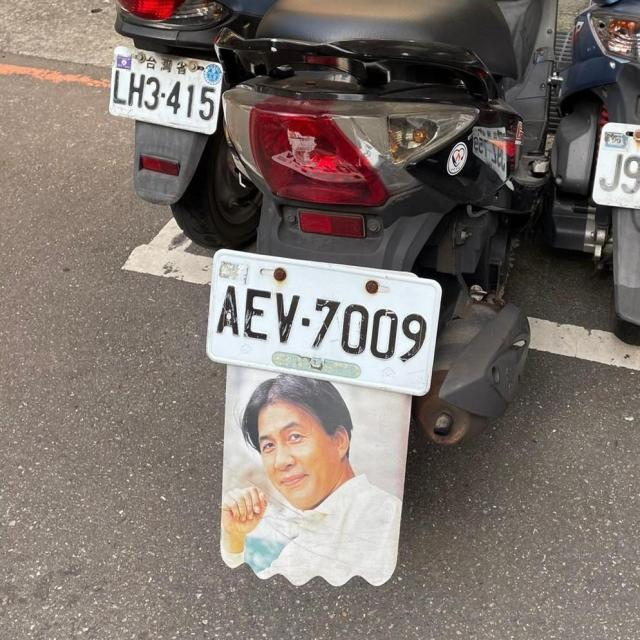W: (196, 243, 448, 402), (99, 39, 229, 140), (587, 116, 640, 222)
